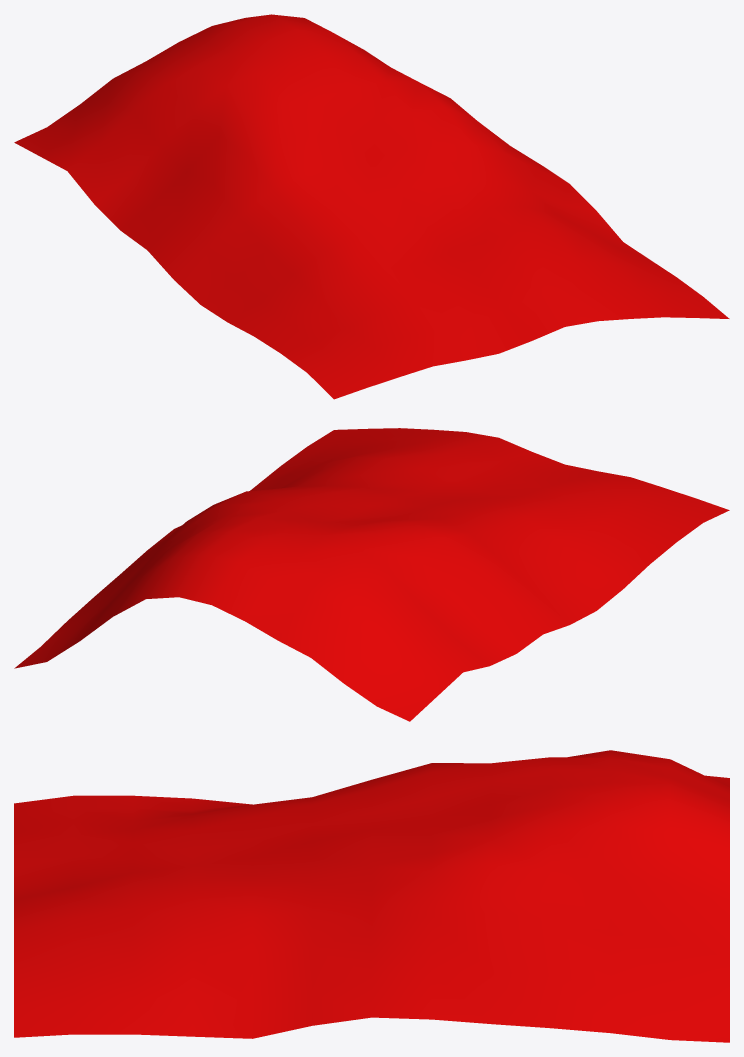
File: Junk_01_low 1.FBX
The picture shows the model from 3 angles, top to bottom: view 1: azimuth 30°, elevation 25°; view 2: azimuth 150°, elevation 25°; view 3: azimuth 270°, elevation 25°; orthographic projection. The views are drawn at different scales.
Visible parts, largest first — view 1: Plane001; view 2: Plane001; view 3: Plane001.
Part boxes in pixels (x1,y1,x2,y2): Plane001: (14,14,729,399); Plane001: (14,428,729,721); Plane001: (14,750,729,1042).
Bounding box in the file's own units: 500 × 166 × 700.
